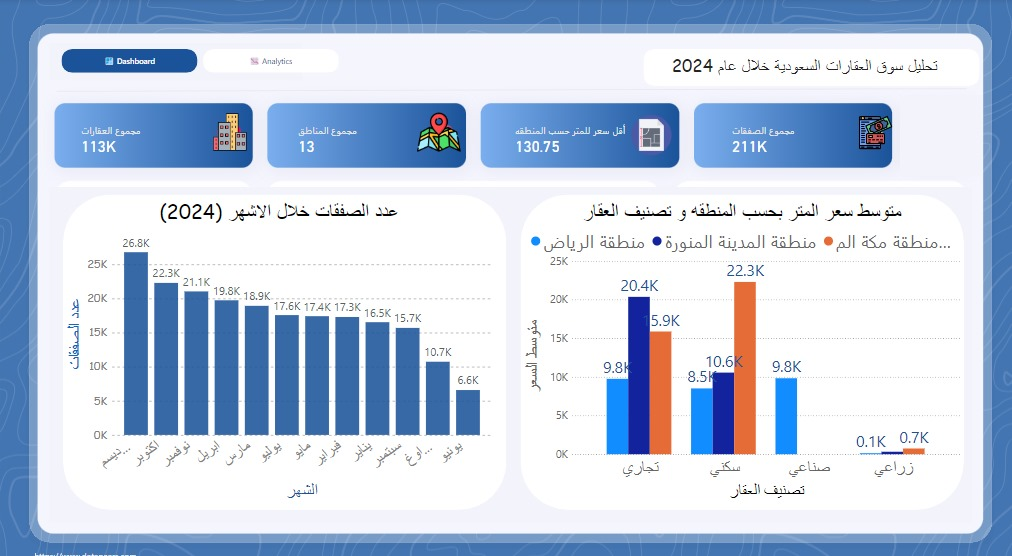

Layout of this report page (visuals, bound fields, positions):
{"tool":"powerbi","page":{"name":"🪟 Dashboard","canvas":[1920,1080],"ordinal":0},"visuals":[{"type":"cardVisual","fields":{"Data":["Sum(databaserealstate realestate.id)","CountNonNull(databaserealstate locations.region_name)","Min(متوسط سعر المتر بحسب المنطقه و تصنيف العقار.Sum of متوسط سعر المتر حسب المنطقه)","Sum(databaserealstate realestate.transaction_count)"]},"box":[135,200,1642.5,132.5],"z":0},{"type":"donutChart","title":"Patients by Gender","fields":{"Y":["Hospital ER.Total Patient"],"Category":["Hospital ER.Gender"]},"box":[118.2,357.3,354.5,301.7],"z":1000},{"type":"clusteredColumnChart","title":"ER Visits per Month","fields":{"Category":["Calendar.Month"],"Y":["Hospital ER.Total Patient"]},"box":[514.7,357.1,718.2,300.6],"z":2000},{"type":"image","box":[244.7,503.6,102.7,60.5],"z":4000},{"type":"textbox","box":[60.5,1036.7,234.9,38],"z":5000},{"type":"actionButton","box":[1159,352,32,48],"z":6000},{"type":"actionButton","box":[1200,352,32,48],"z":7000},{"type":"shape","box":[93.3,356.7,1743.3,633.3],"z":8000},{"type":"shape","box":[92.5,85,477.5,70],"z":9000},{"type":"shape","box":[1215,97.5,635,70],"z":10000},{"type":"textbox","box":[1265,100,625,112.5],"z":11000},{"type":"shape","box":[118,370,838,596],"z":12000},{"type":"shape","box":[1700,185,155,152.5],"z":13000},{"type":"columnChart","title":"عدد الصفقات خلال الاشهر (2024)","fields":{"Category":["عدد الصفقات خلال الاشهر (2024).الشهر"],"Y":["Sum(عدد الصفقات خلال الاشهر (2024).Sum of عدد الصفقات 2024)"]},"box":[118,378,816,574],"z":14000},{"type":"pageNavigator","box":[117.5,97.5,525,45],"z":15000},{"type":"image","box":[187.5,212.5,495,81.2],"z":16000},{"type":"shape","box":[984,370,838,596],"z":17000},{"type":"clusteredColumnChart","title":"متوسط سعر المتر بحسب المنطقه و تصنيف العقار","fields":{"Category":["متوسط سعر المتر بحسب المنطقه و تصنيف العقار.تصنيف العقار"],"Y":["Sum(متوسط سعر المتر بحسب المنطقه و تصنيف العقار.Sum of متوسط سعر المتر حسب المنطقه)"],"Series":["متوسط سعر المتر بحسب المنطقه و تصنيف العقار.المنطقة"]},"box":[983,377.9,837.4,574.5],"z":18000},{"type":"image","box":[1388.8,216.2,531.2,77.5],"z":19000},{"type":"image","box":[508.2,206.4,643.6,92.7],"z":20000},{"type":"image","box":[900,215.7,664.3,87.1],"z":21000}]}

Visuals, with their boxes in screenshot pixels (x1, y1, x2, y2), scaled from the page's 1920x1080 canvas onto the 1012x556 screenshot:
cardVisual - Sum(databaserealstate realestate.id) x CountNonNull(databaserealstate locations.region_name): box=[71, 103, 937, 171]
"Patients by Gender" donutChart: box=[62, 184, 249, 339]
"ER Visits per Month" clusteredColumnChart: box=[271, 184, 650, 339]
image: box=[129, 259, 183, 290]
textbox: box=[32, 534, 156, 553]
actionButton: box=[611, 181, 628, 206]
actionButton: box=[632, 181, 649, 206]
shape: box=[49, 184, 968, 510]
shape: box=[49, 44, 300, 80]
shape: box=[640, 50, 975, 86]
textbox: box=[667, 51, 996, 109]
shape: box=[62, 190, 504, 497]
shape: box=[896, 95, 978, 174]
"عدد الصفقات خلال الاشهر (2024)" columnChart: box=[62, 195, 492, 490]
pageNavigator: box=[62, 50, 339, 73]
image: box=[99, 109, 360, 151]
shape: box=[519, 190, 960, 497]
"متوسط سعر المتر بحسب المنطقه و تصنيف العقار" clusteredColumnChart: box=[518, 195, 960, 490]
image: box=[732, 111, 1011, 151]
image: box=[268, 106, 607, 154]
image: box=[474, 111, 825, 156]
